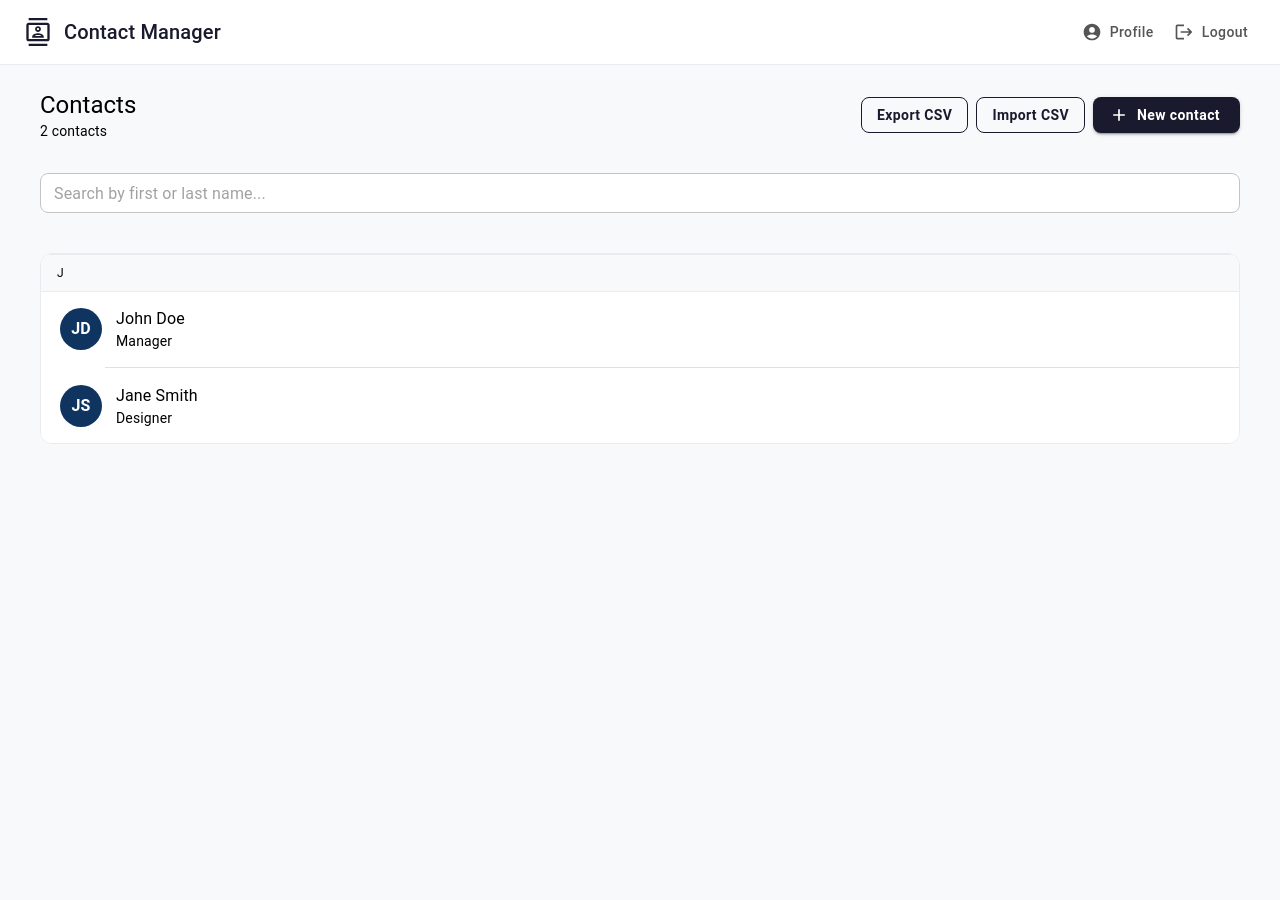
Test: Contacts Page › opens contact detail panel on contact click
The image size is (1280, 900).
Step 1. Click the text "John Doe" → {"x": 150, "y": 319}, box [116, 309, 185, 328]
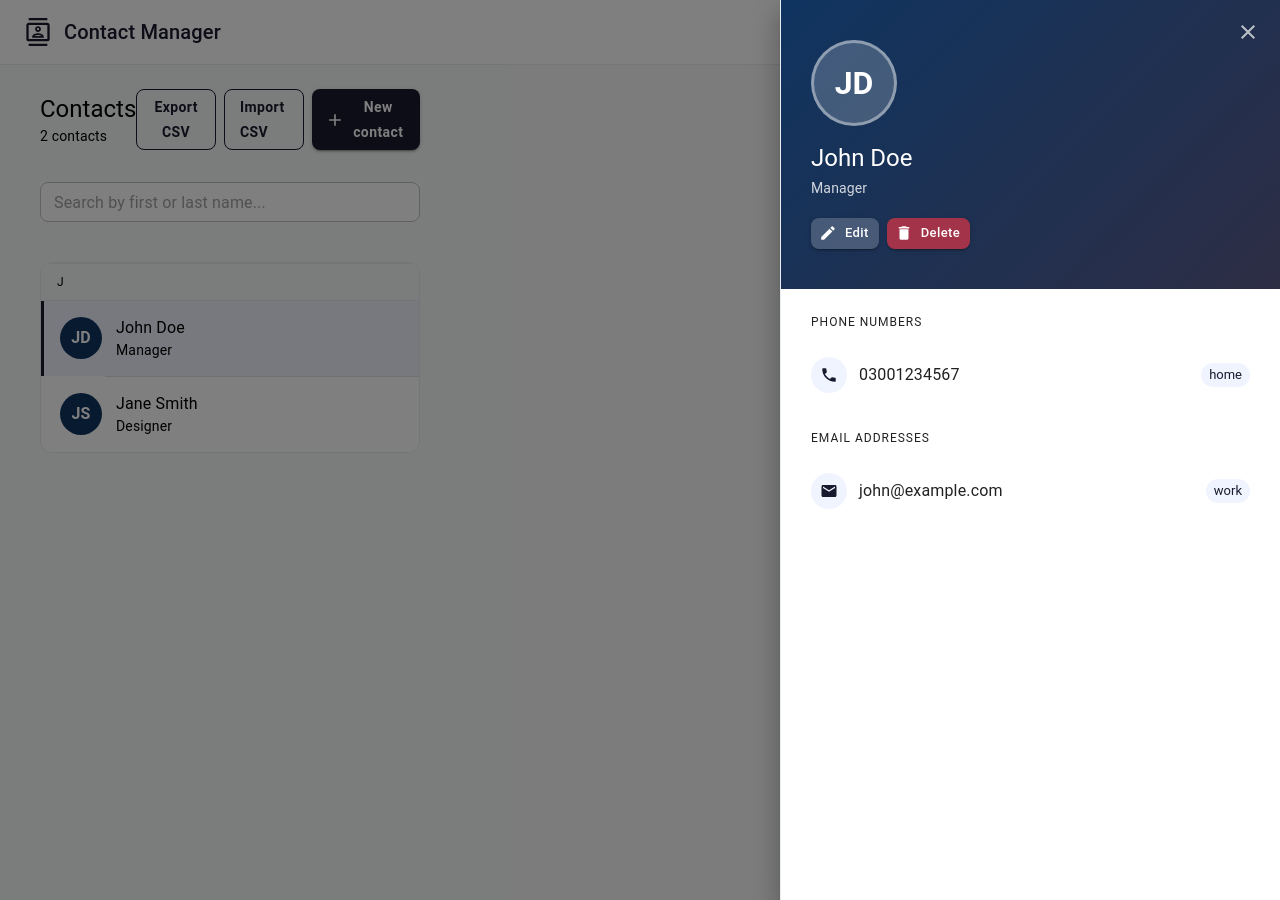
Expected: the text "john@example.com" is shown, [859, 479, 1003, 503]
Expected: the text "03001234567" is shown, [859, 363, 960, 387]
